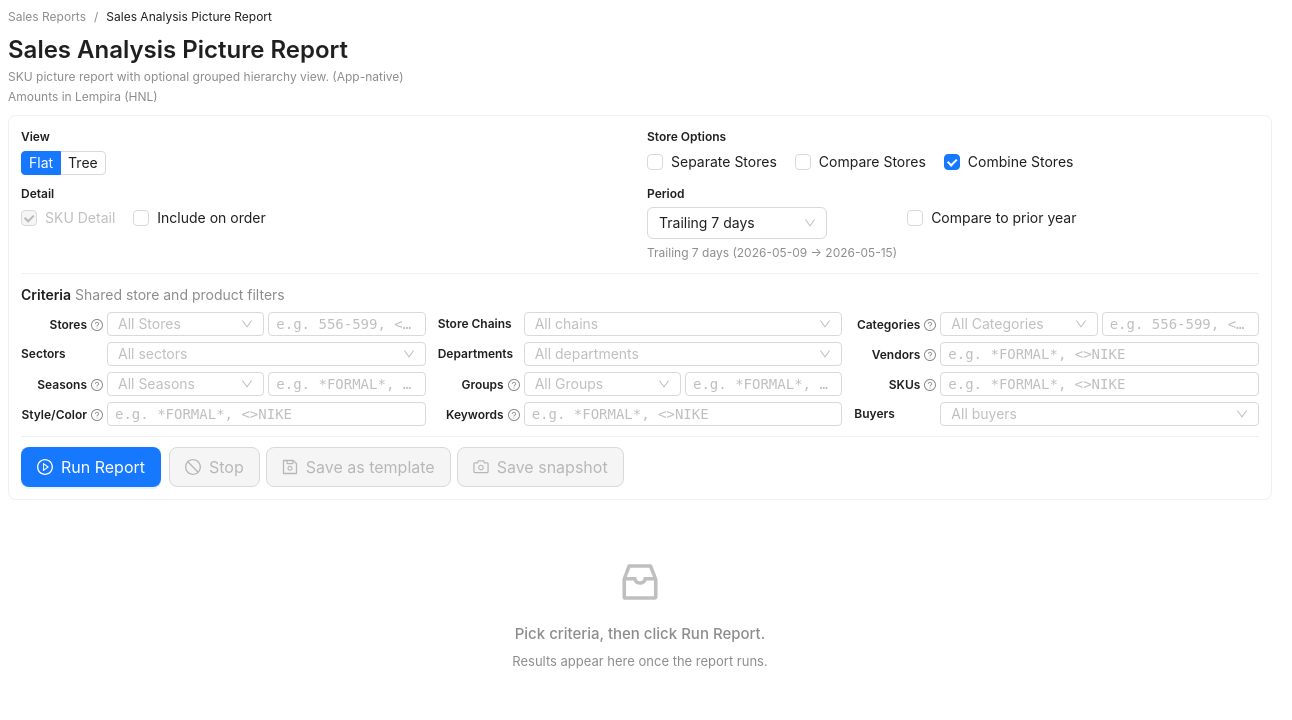
SalesAnalysisPictureReportPage › filters loaded rows from the column selector without re-querying
Click the button "Run Report": {"x": 91, "y": 467} [21,447,161,487]
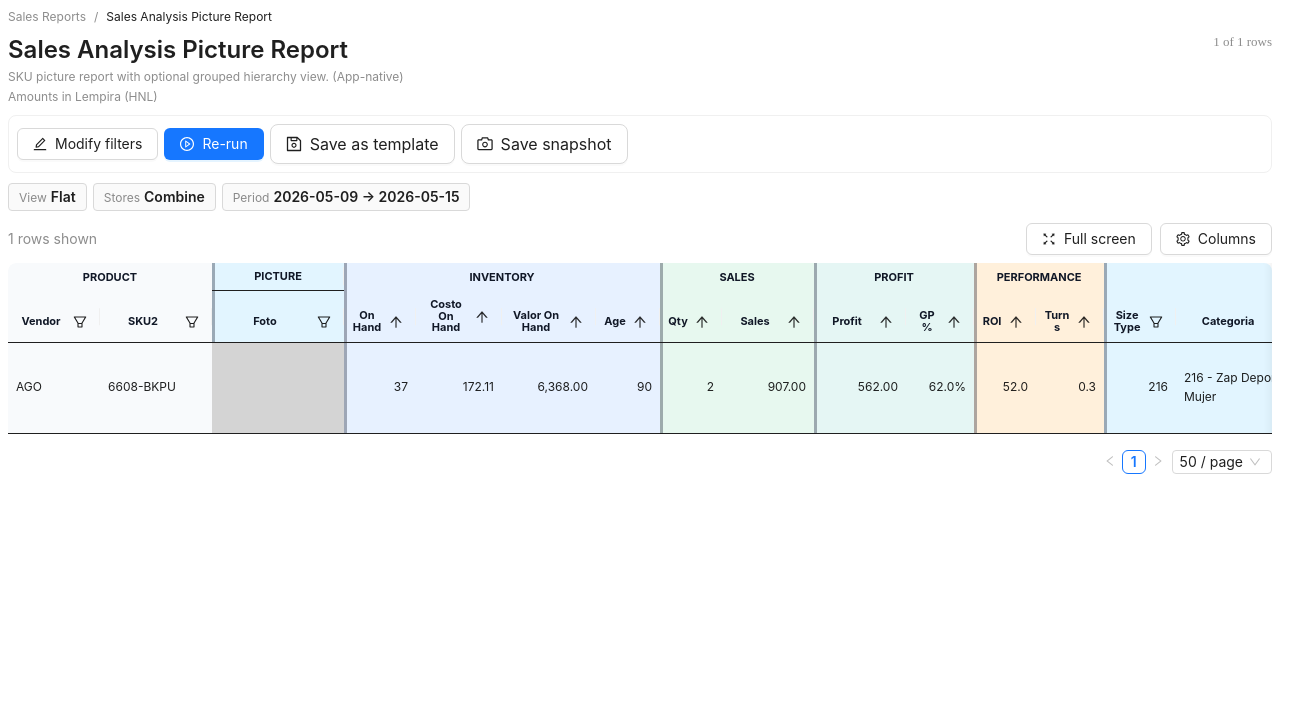
Expected: the button named "Filter Vendor" is shown
Click the button named "Filter Vendor": {"x": 80, "y": 322} [68,310,92,334]
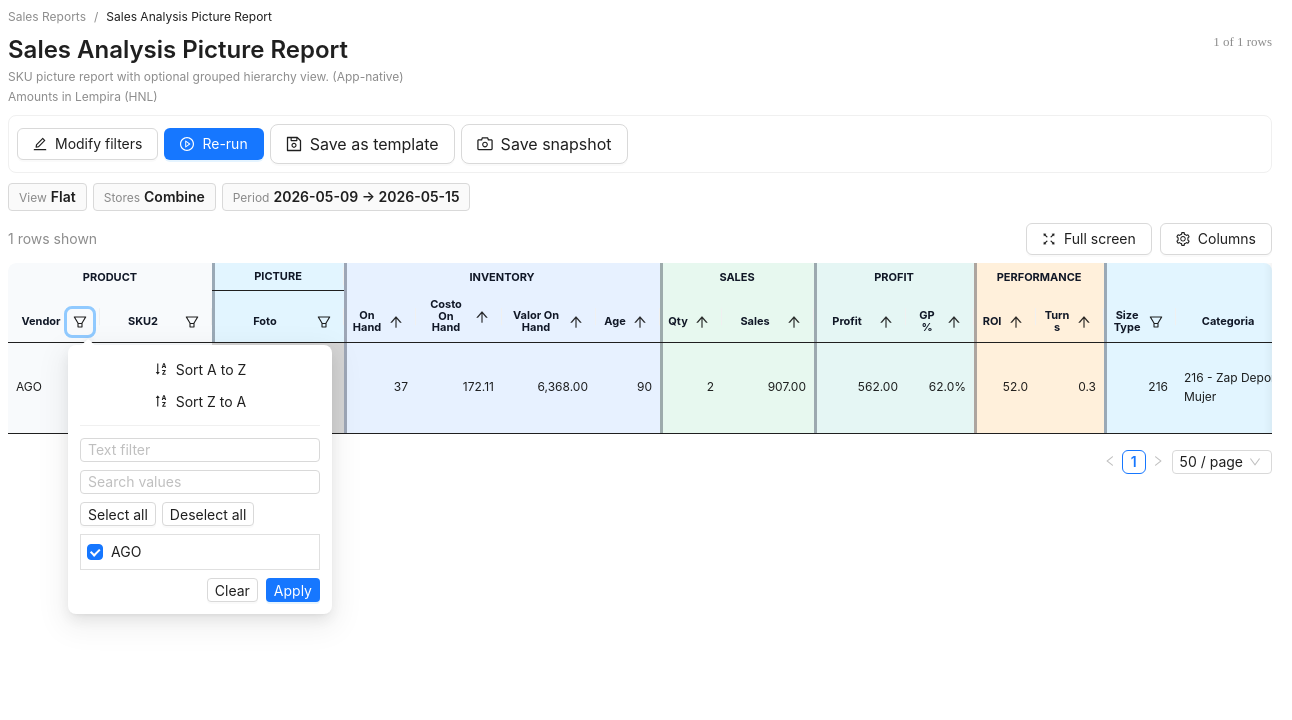
Click the button "Deselect all": {"x": 208, "y": 514} [162,502,254,526]
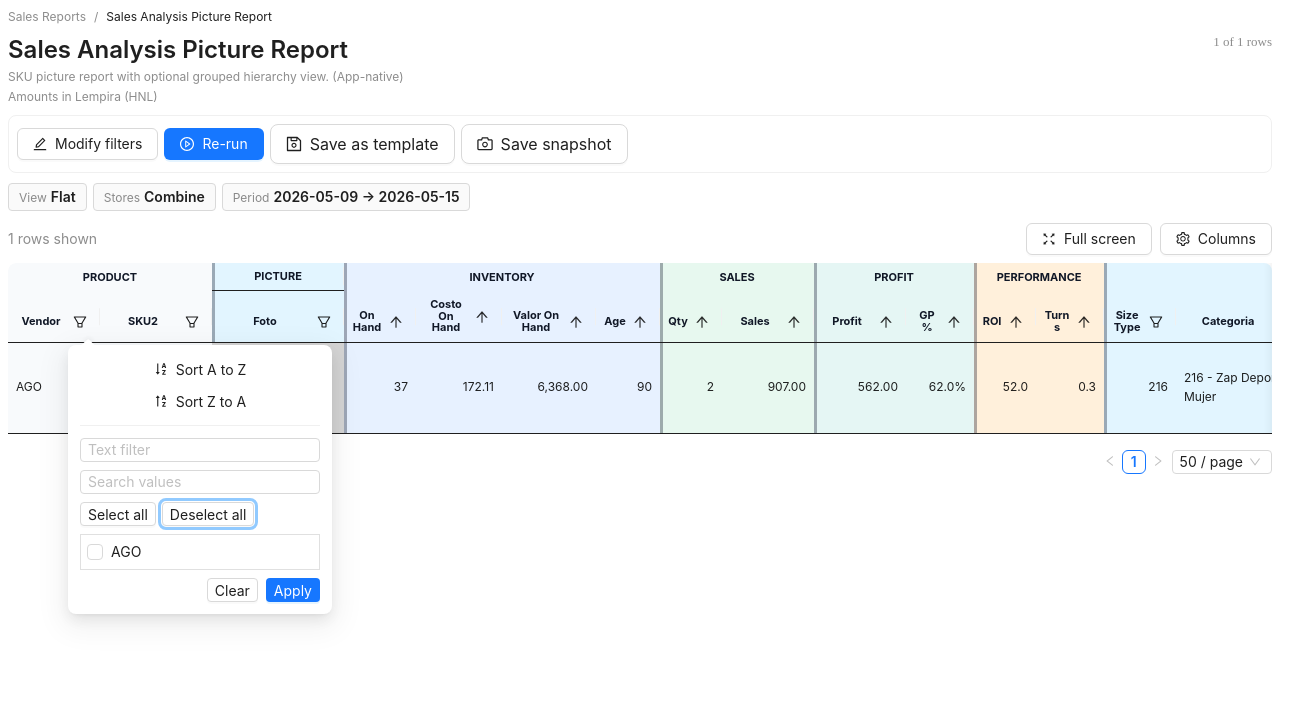
Click the button "Apply": {"x": 293, "y": 590} [266,578,320,602]
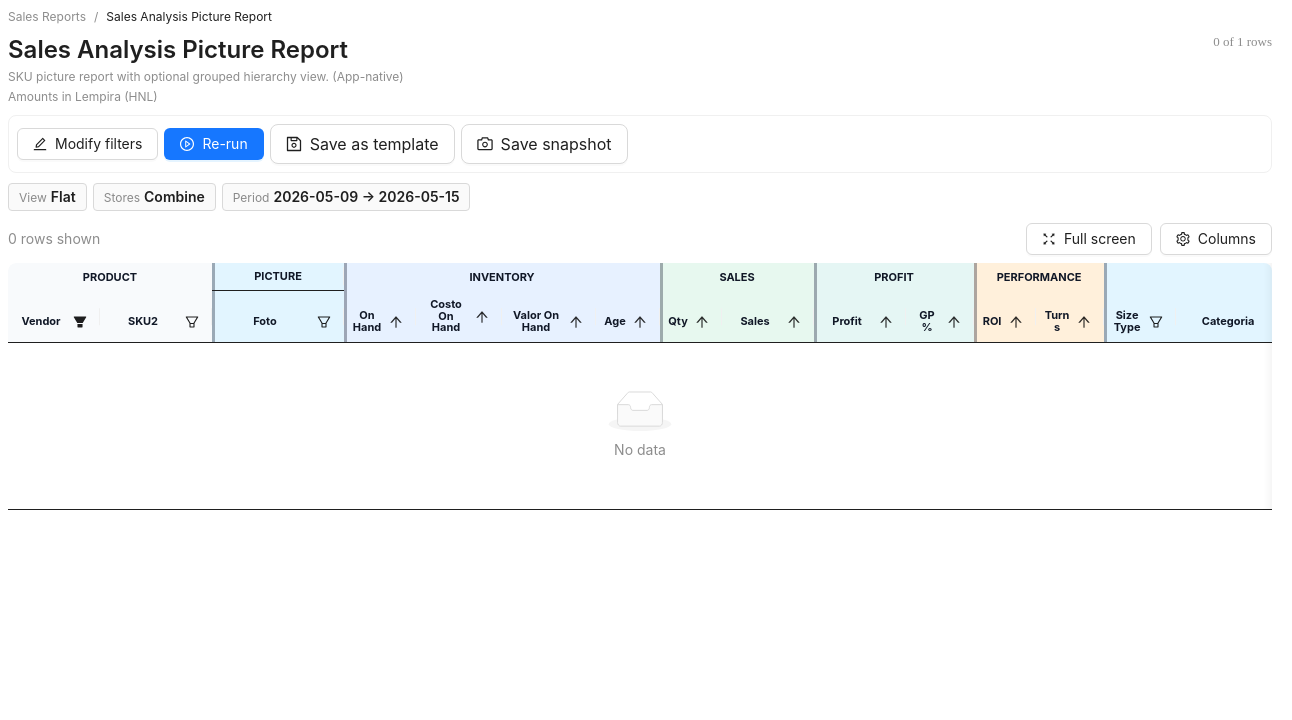
Expected: the text "6608-BKPU" is gone
